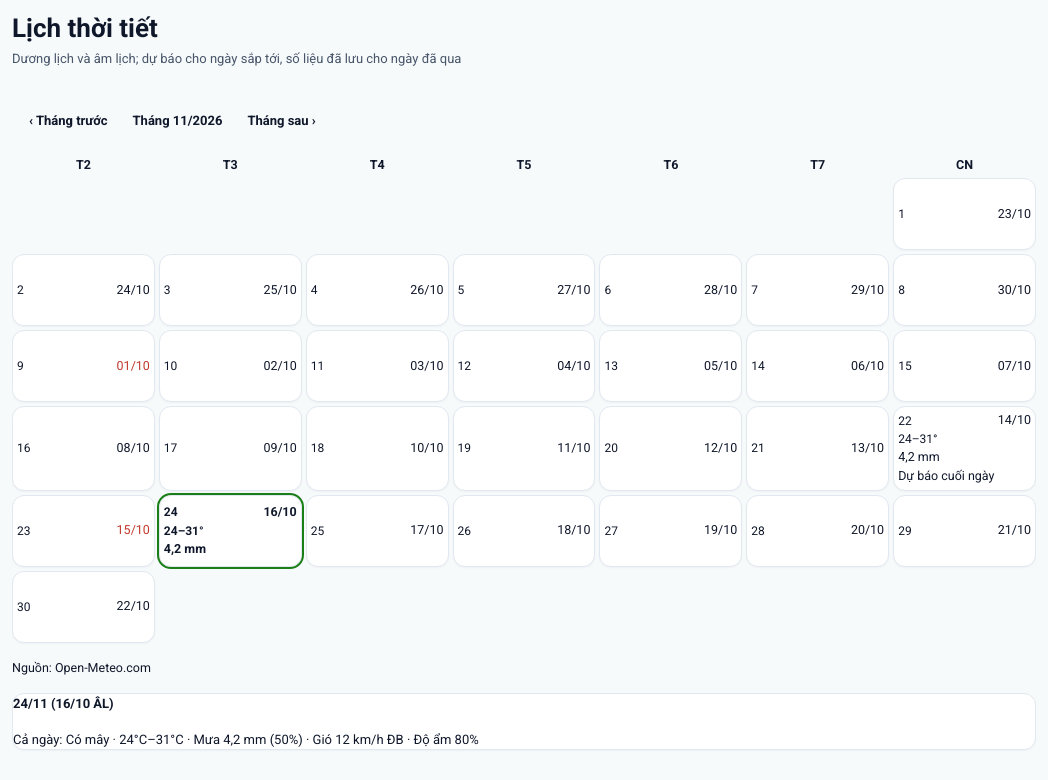
FN-TT-02 Lịch thời tiết › lưới tháng có ngày âm; ngày đã qua có nhãn; chi tiết theo buổi; không theo giờ thì một khối cả ngày
Check: the cell named "23/11 (15/10 ÂL)" is shown, box [12,494,155,566]
Step 1. Click the cell named "22/11" → (965, 448), box [893,406,1036,491]
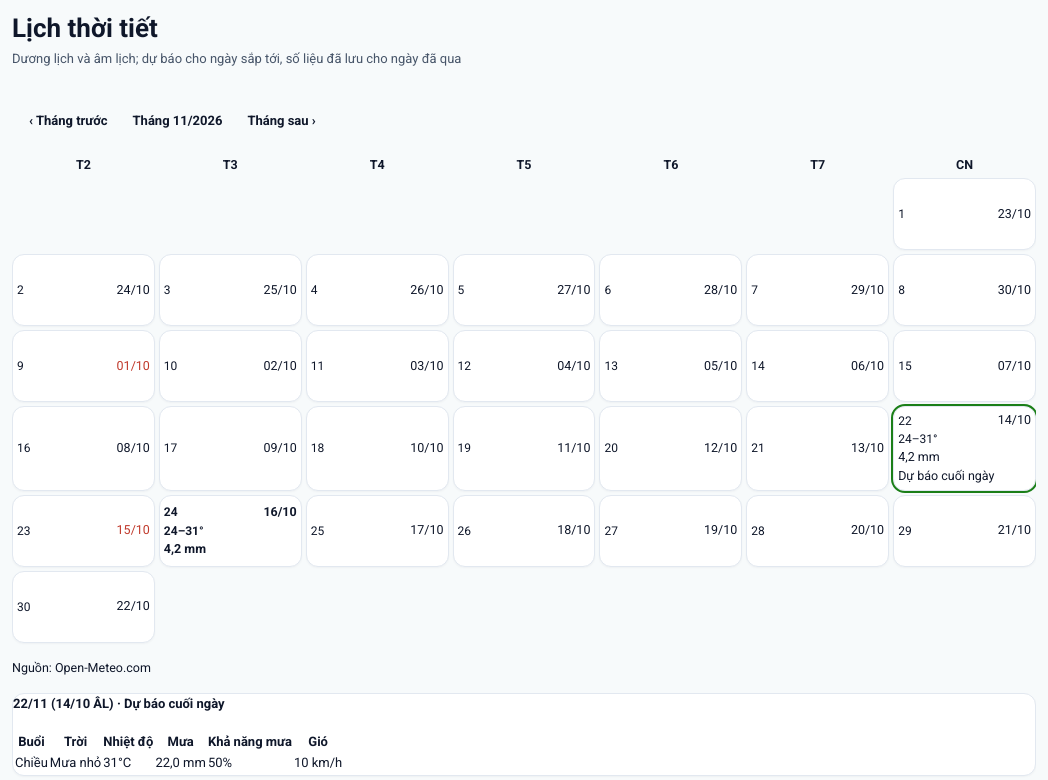
Check: the element named "Chi tiết ngày" shows "22/11 (14/10 ÂL) · Dự báo cuối ngày", box [12,693,1036,776]
Check: the table that starts with "Buổi" shows "Chiều", box [15,755,48,770]
Check: the table that starts with "Buổi" shows "22,0 mm", box [155,755,206,770]
Step 2. Click the cell named "24/11" → (230, 530), box [159,494,302,566]
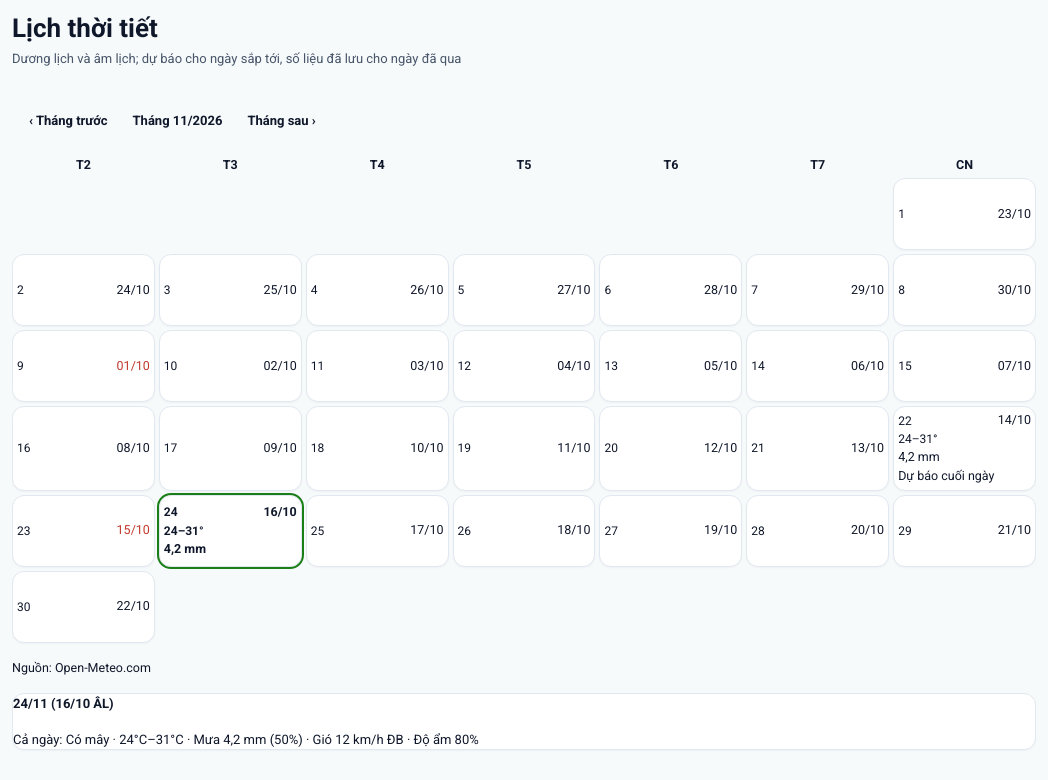
Check: the table "Chiều Mưa nhỏ 31°C 22,0 mm 50% 10 km/h" is gone
Step 3. Click the cell named "21/11" → (818, 448), box [746,406,889,491]
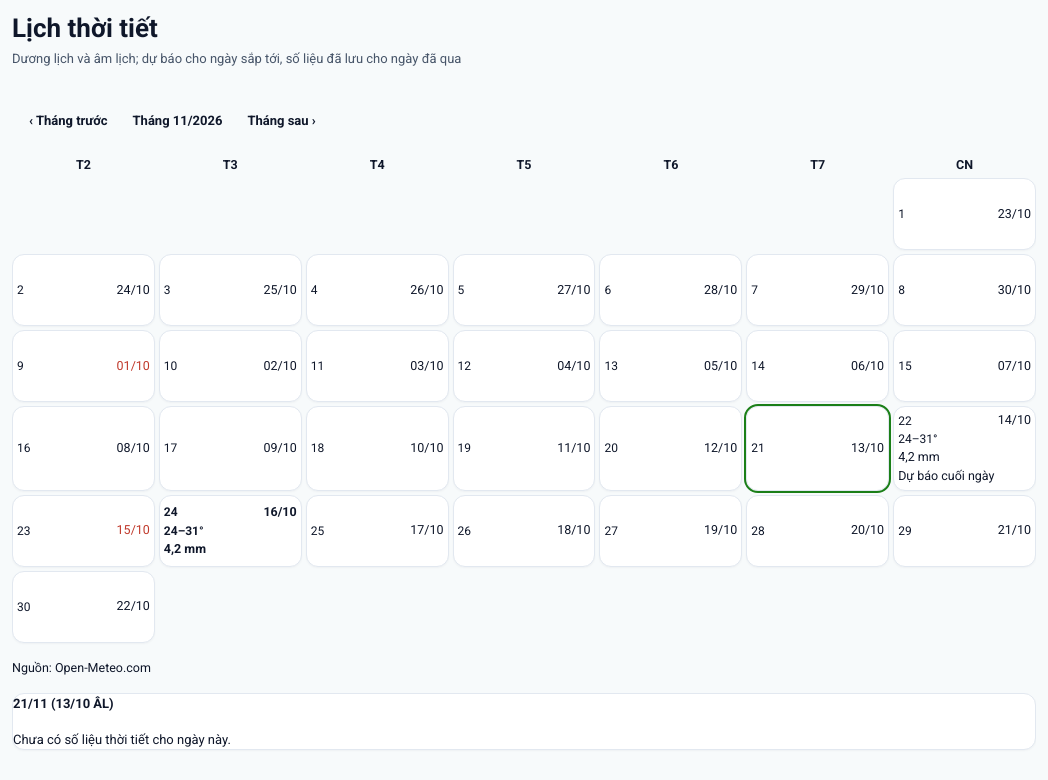
Check: the element named "Chi tiết ngày" reads "21/11 (13/10 ÂL) Chưa có số liệu thời tiết cho ngày này.", box [13,732,231,747]
